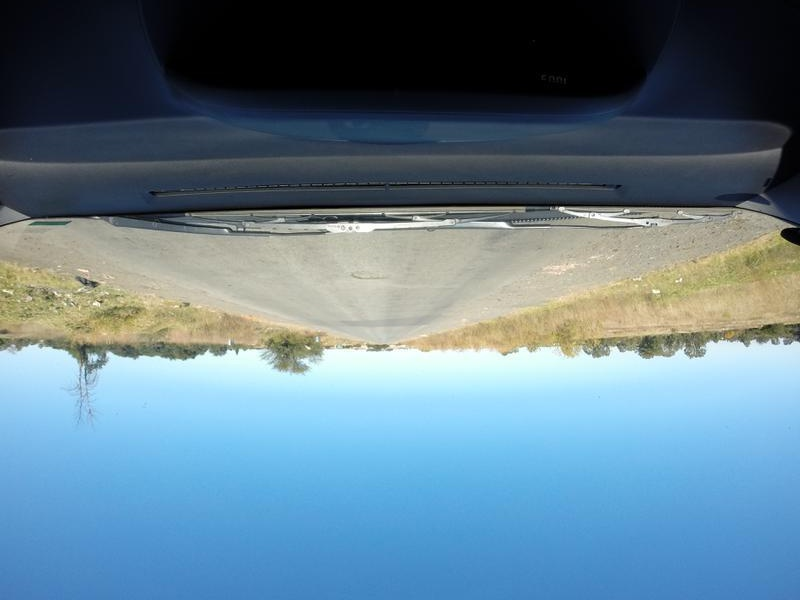pothole: (347, 270, 386, 281)
